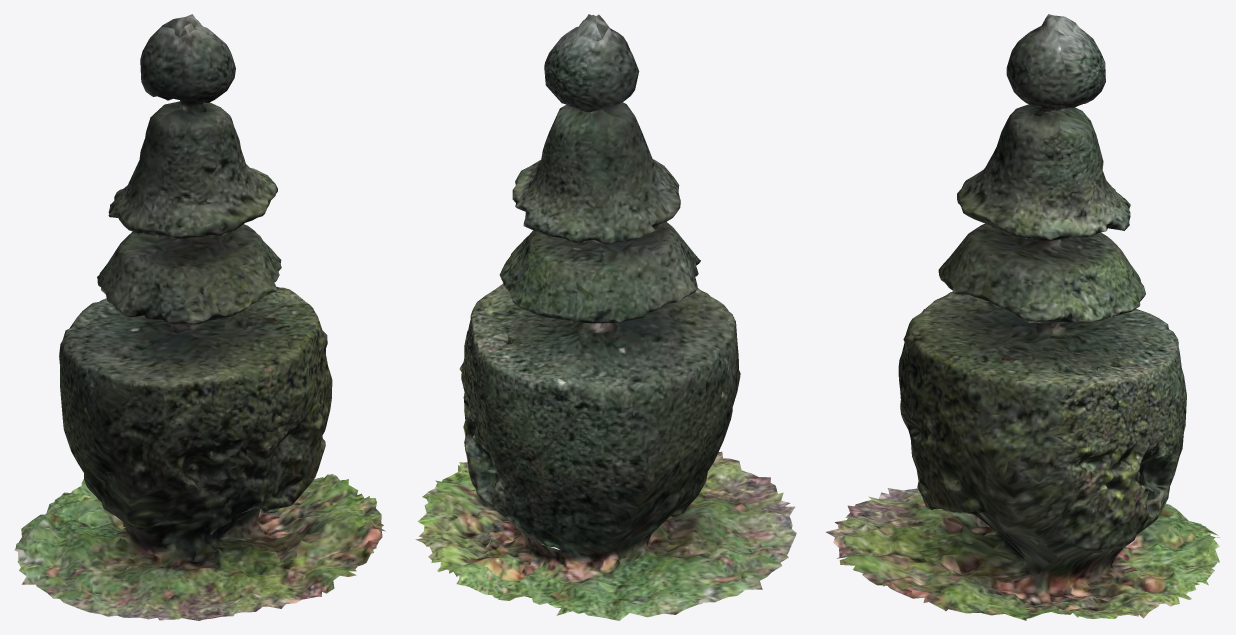
The model's file is topiaire.glb.
The picture shows the model from 3 angles, left to right: view 1: azimuth 30°, elevation 25°; view 2: azimuth 150°, elevation 25°; view 3: azimuth 270°, elevation 25°; orthographic projection. The views are drawn at different scales.
Parts seen in each view (by area): view 1: mesh_main_0; view 2: mesh_main_0; view 3: mesh_main_0.
Part boxes in pixels (left/top/right/bottom): mesh_main_0: left=14, top=14, right=385, bottom=620; mesh_main_0: left=415, top=14, right=796, bottom=620; mesh_main_0: left=826, top=14, right=1219, bottom=620.
Bounding box in the file's own units: 1.25 × 1.94 × 1.27.
Materials: 1 (1 with a texture image).
